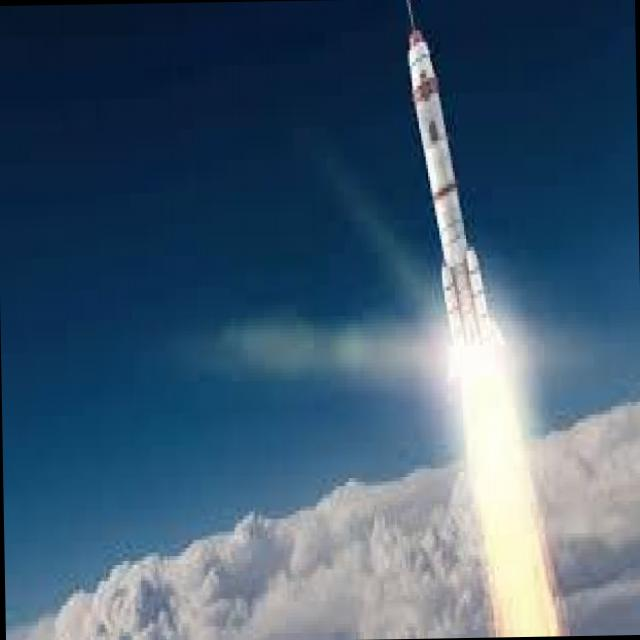rocket: (407, 21, 520, 481)
